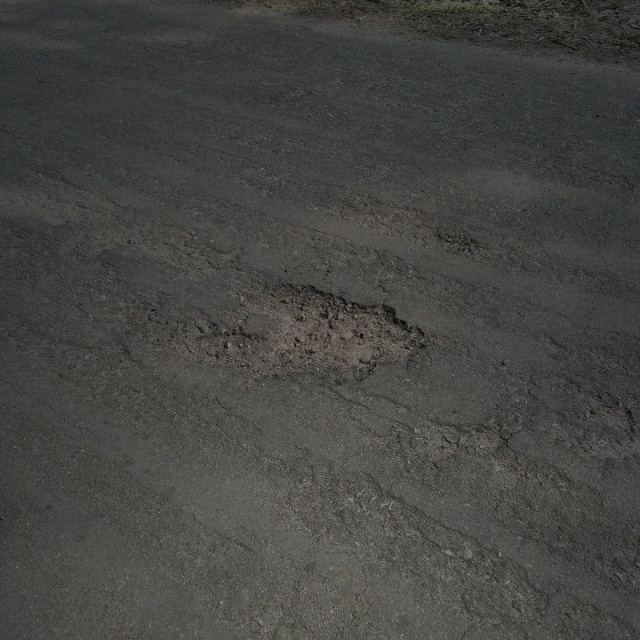pothole: (180, 276, 426, 386)
